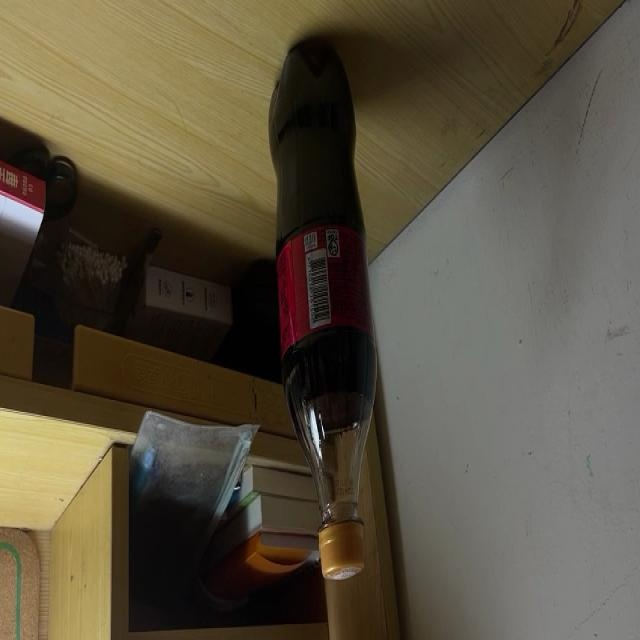Coca-Cola: (268, 44, 379, 584)
